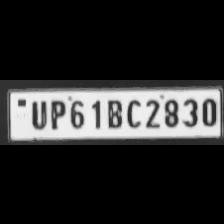0: (198, 94, 218, 125)
1: (86, 96, 104, 128)
2: (142, 95, 160, 127)
3: (180, 94, 198, 128)
6: (66, 96, 86, 128)
8: (160, 95, 178, 127)
B: (104, 96, 122, 128)
C: (123, 95, 141, 127)
P: (47, 96, 65, 128)
U: (27, 97, 47, 128)
